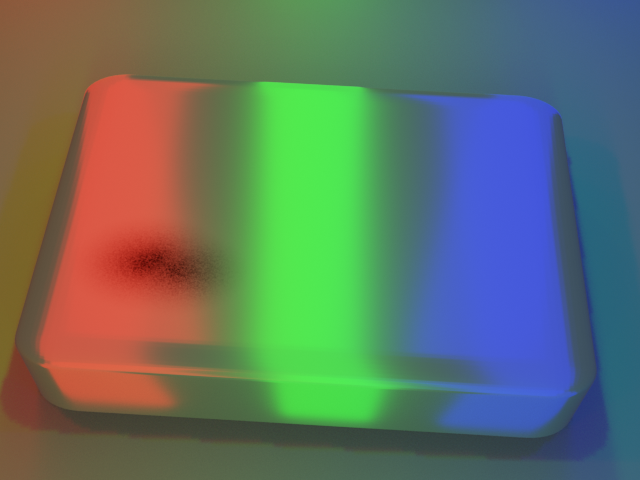stain: (16, 198, 243, 332)
